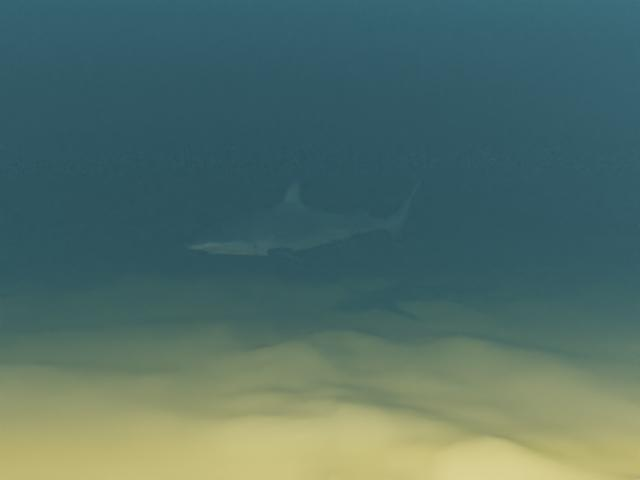Carribean Shark.001: (184, 177, 423, 268)
